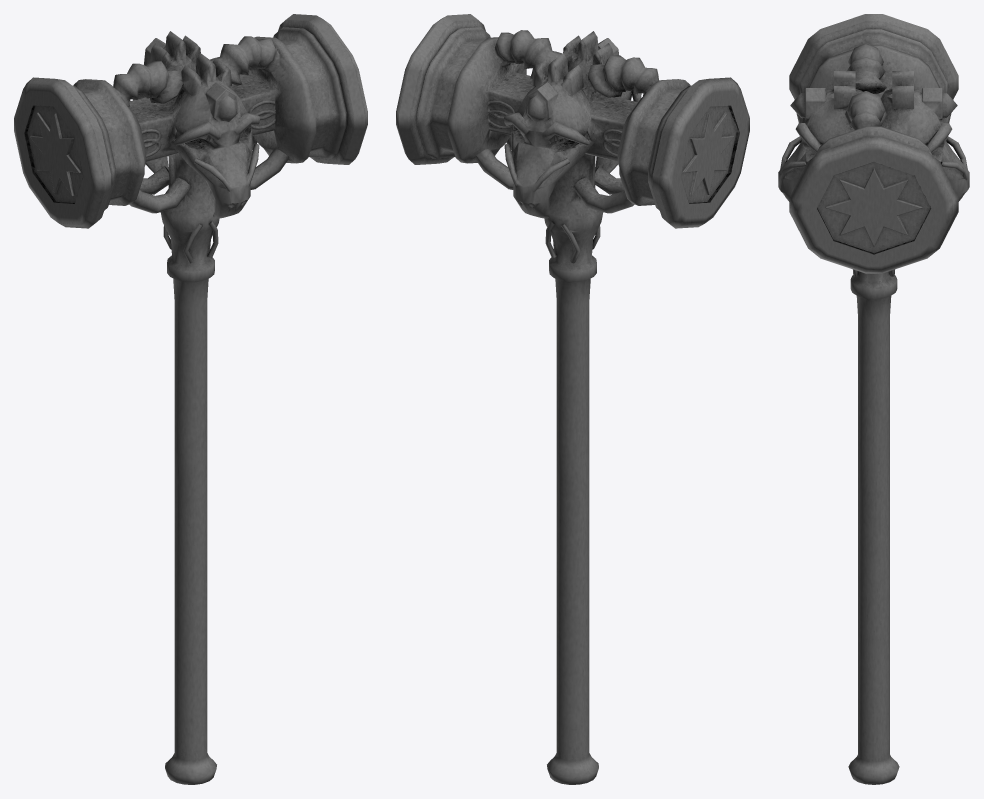
Rendered from maul-ornate.glb.
3 renders of one model, left to right at view 1: azimuth 30°, elevation 25°; view 2: azimuth 150°, elevation 25°; view 3: azimuth 270°, elevation 25°, orthographic. The views are drawn at different scales.
Parts seen in each view (by area): view 1: maul-ornate; view 2: maul-ornate; view 3: maul-ornate.
Part boxes in pixels (bbox=[...]): maul-ornate: bbox=[14, 14, 367, 784]; maul-ornate: bbox=[396, 14, 749, 784]; maul-ornate: bbox=[778, 14, 969, 784].
Bounding box in the file's own units: 0.42 × 1.07 × 0.262.
Materials: 1 (1 with a texture image).
